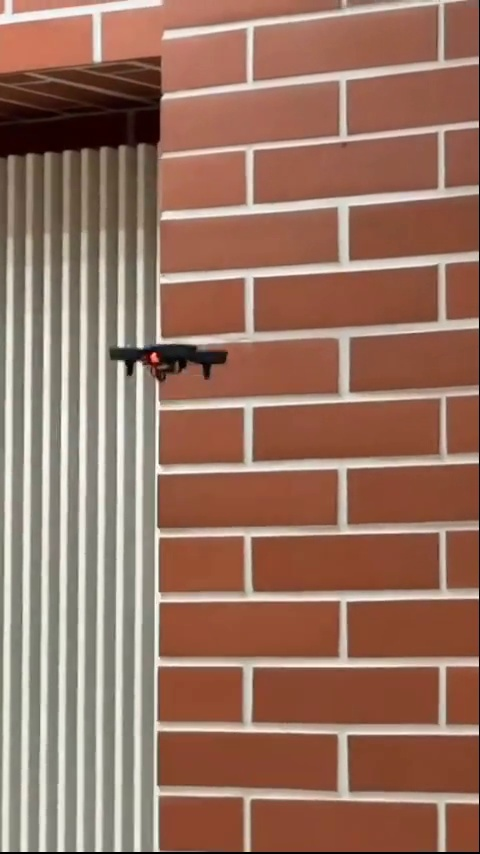drone: (109, 339, 234, 392)
